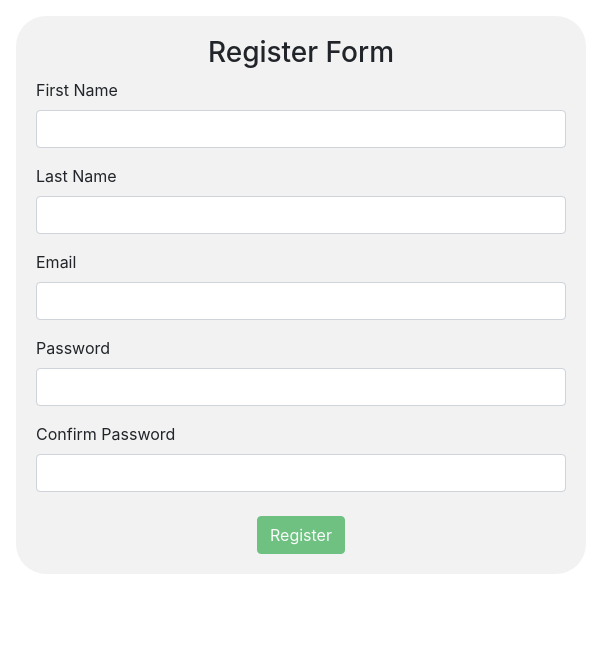
it: register page › test password validation › fill firstname and then fill password with string containing string from firstname, expect error saying *Password must not contain first name
Step 1. Type "test" into the field named "firstName" below "First Name" → [301, 129], box 36,110 -> 566,148
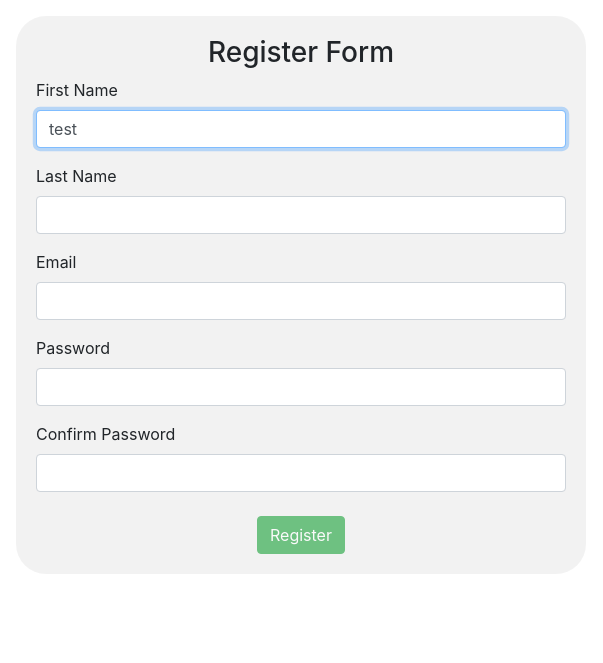
Step 2. Type "testabc" into the 1st password field named "password" → [301, 387], box 36,368 -> 566,406
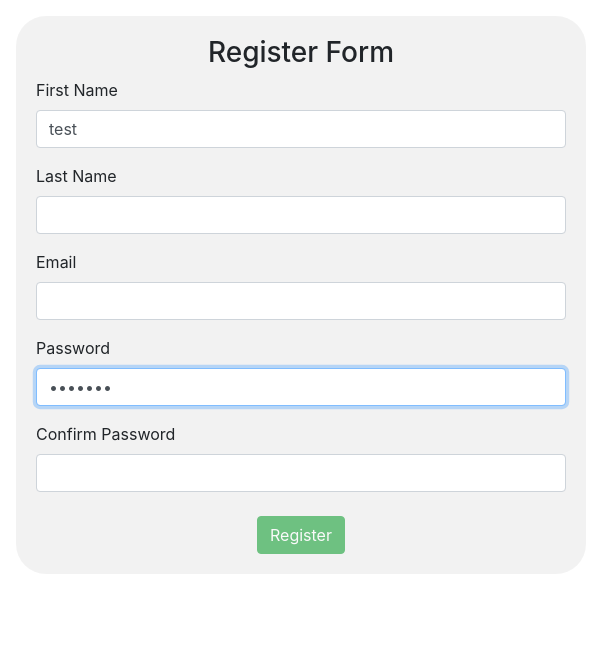
Step 3. Focus the password field named "confirmPassword" below "Confirm Password" → [301, 473], box 36,454 -> 566,492
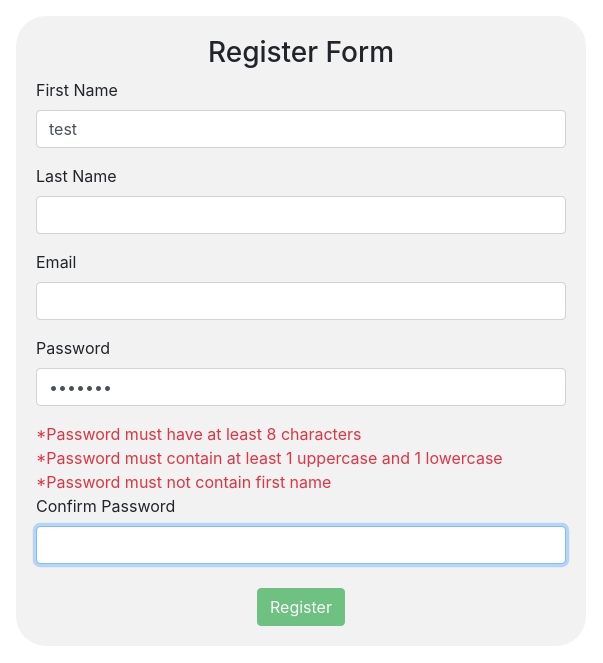
Check: the text "*Password must not contain first name" is shown, box 36,472 -> 331,492
